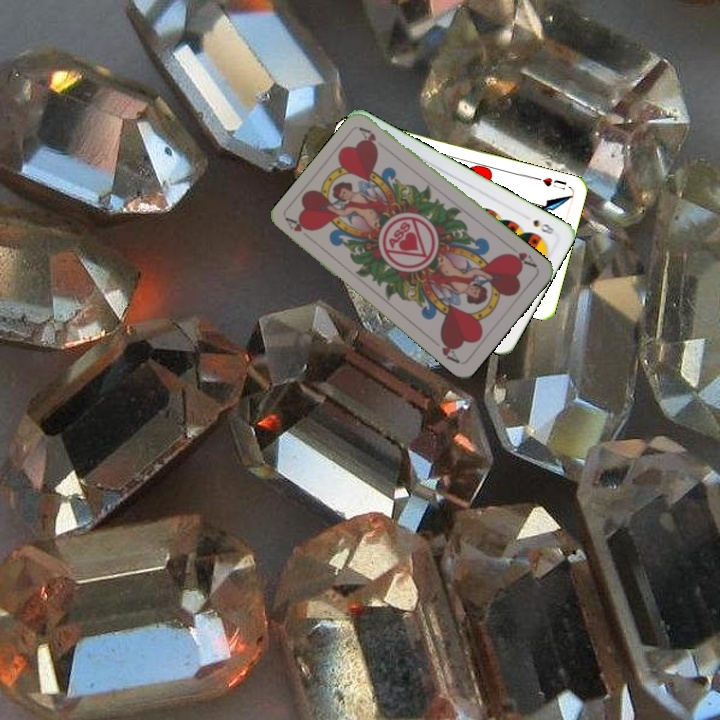HA: (503, 248, 540, 271), (282, 214, 314, 234)
HU: (532, 173, 569, 192)
S8: (529, 215, 557, 237)
